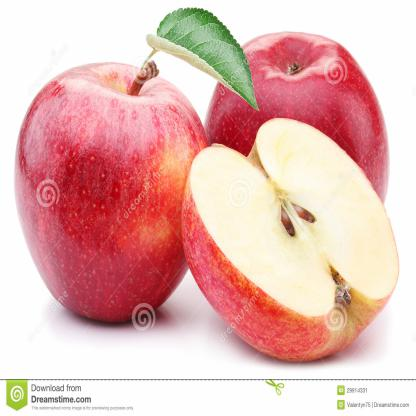apple leaf: (142, 3, 274, 103)
